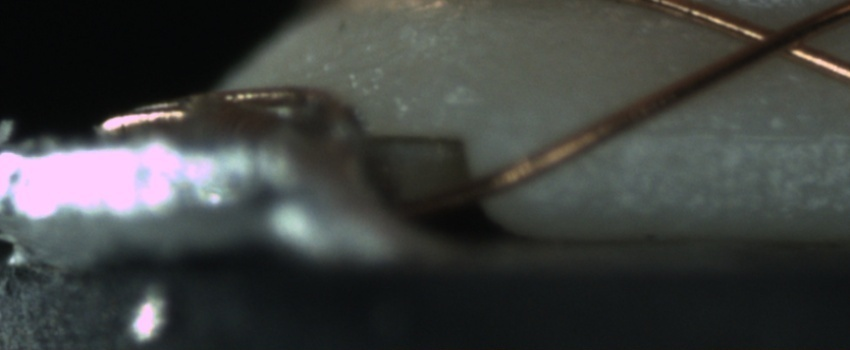CL: (724, 8, 831, 68)
DL: (617, 104, 850, 168)
TE: (86, 75, 324, 137)
